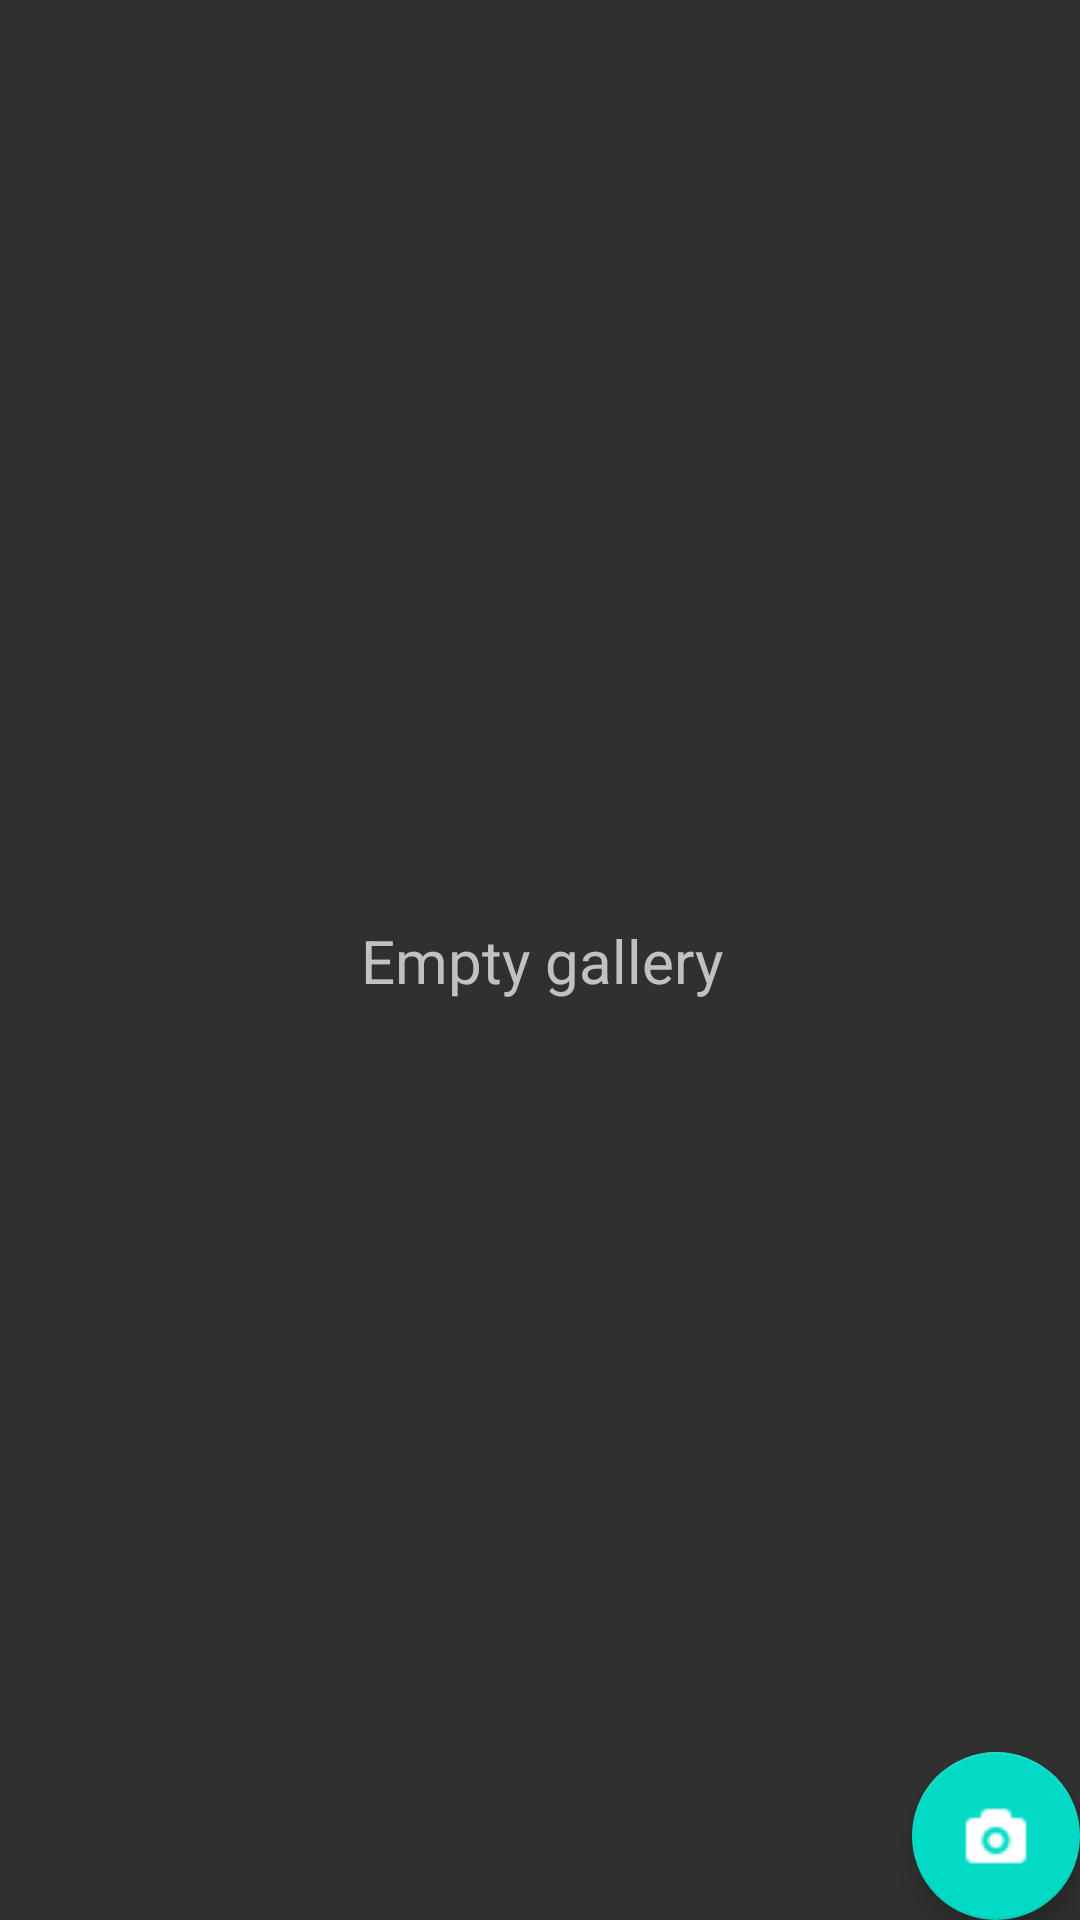

Where to tap for icons on this 1080w x 1920h app screen, as (x=x, y=y):
camera: (x=996, y=1836)
